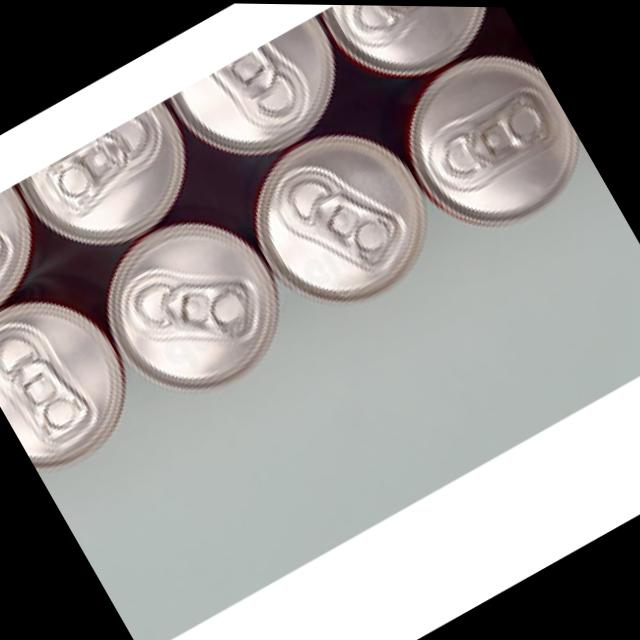aluminum_soda_cans: (230, 102, 463, 338), (85, 194, 309, 422), (384, 25, 604, 256), (0, 271, 167, 497), (21, 99, 220, 275), (178, 14, 368, 180), (327, 4, 512, 98), (0, 188, 62, 332)
